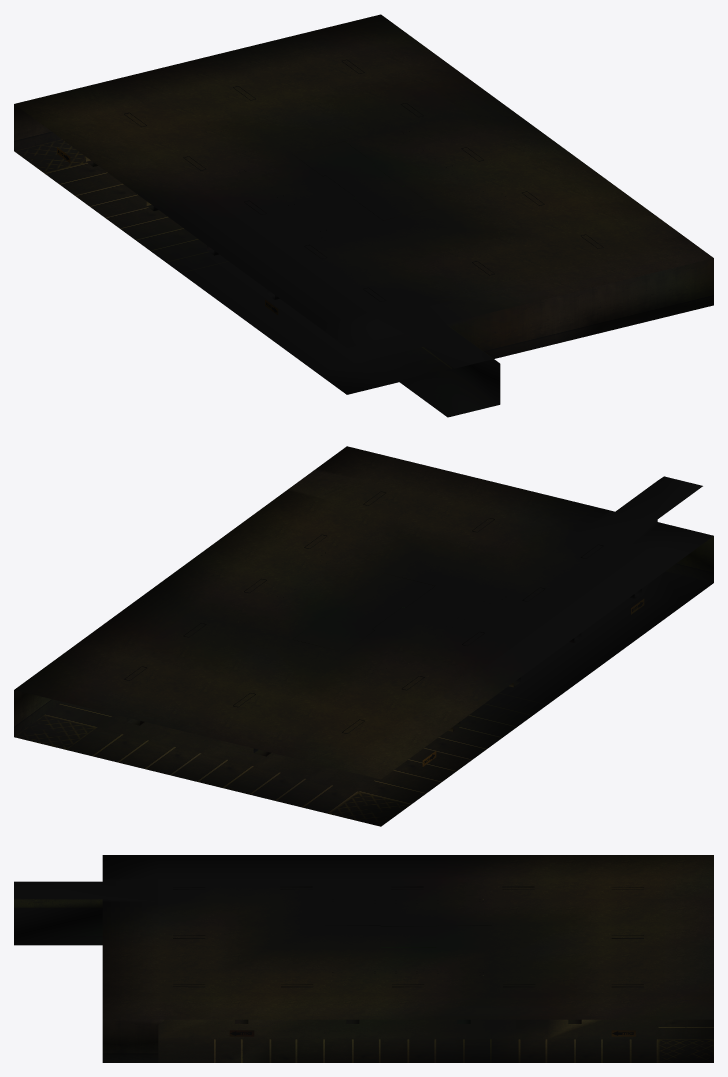
The model's file is car_parking.glb.
3 views of the same model, one above another, from view 1: azimuth 30°, elevation 25°; view 2: azimuth 150°, elevation 25°; view 3: azimuth 270°, elevation 25° (orthographic). The views are drawn at different scales.
Parts seen in each view (by area): view 1: aircarpark_08_SFSe_0; view 2: aircarpark_08_SFSe_0; view 3: aircarpark_08_SFSe_0.
Part boxes in pixels (x1,y1,x2,y2): aircarpark_08_SFSe_0: (14,14,713,417); aircarpark_08_SFSe_0: (14,446,713,826); aircarpark_08_SFSe_0: (14,855,713,1062).
Size of the model in its own units: 57.59 by 7.15 by 104.
Materials: 15 (15 with a texture image).
